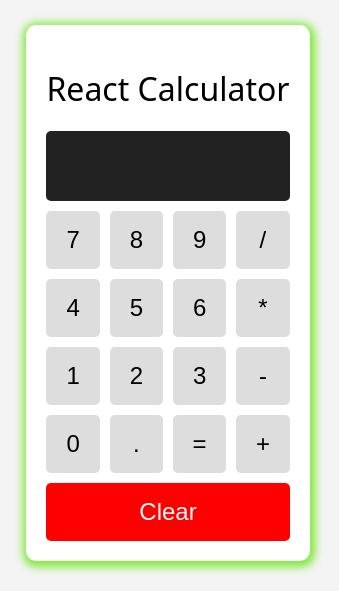
it: Calculator App › clears input when "Clear" is clicked
The width and height of the screenshot is (339, 591).
Click the button "5".
click(136, 308)  # box [110,279,163,337]
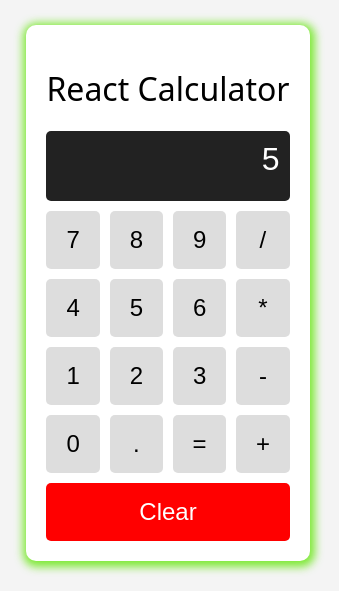
Click the button "+".
click(263, 444)  # box [236,415,290,473]
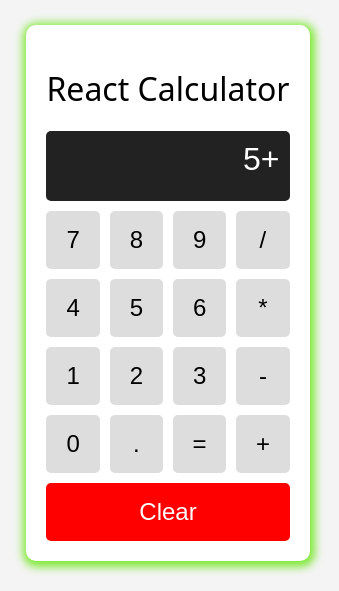
Click the button "3".
click(200, 376)  # box [173,347,226,405]
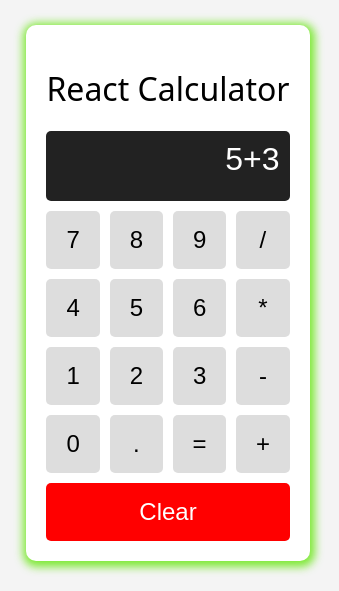
Note: Clear the input
Click the button "Clear".
click(168, 512)  # box [46,483,290,541]
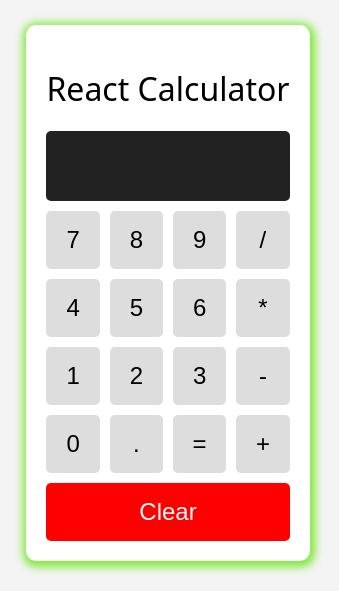
Expected: the element with test id "display" is empty, [46,131,290,201]
